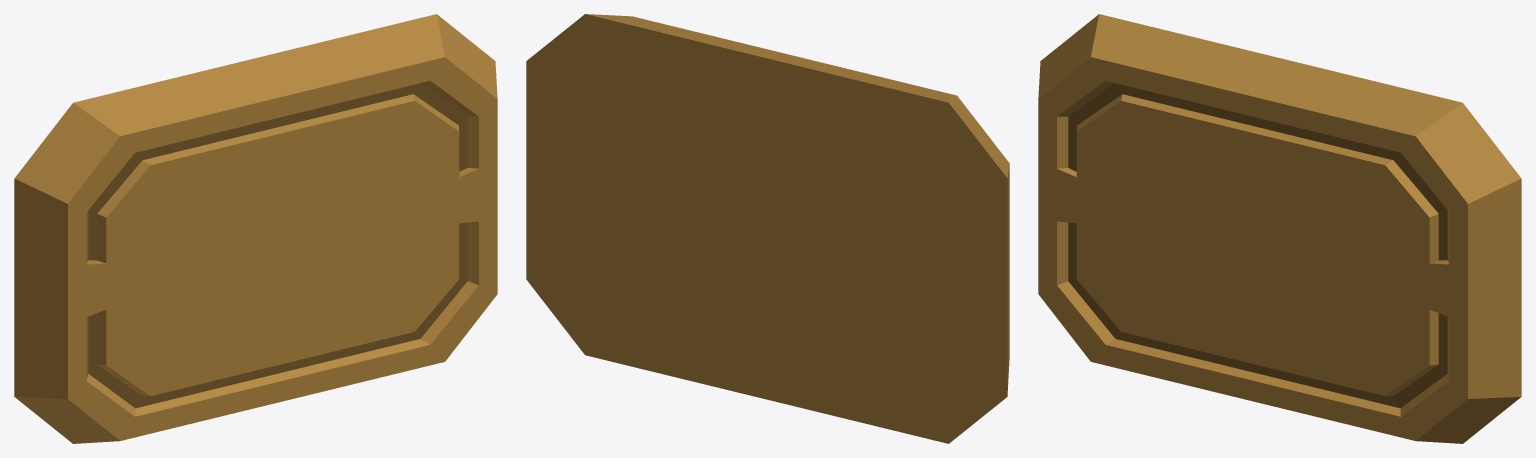
The model's file is Details_Basic_4.glb.
The picture shows the model from 3 angles, left to right: view 1: azimuth 30°, elevation 25°; view 2: azimuth 150°, elevation 25°; view 3: azimuth 330°, elevation 25°; orthographic projection.
Visible parts, largest first — view 1: Details_Basic_4; view 2: Details_Basic_4; view 3: Details_Basic_4.
Boxes of the visible parts, x1,y1,x2,y2 form: Details_Basic_4: (14, 14, 497, 443); Details_Basic_4: (526, 14, 1009, 443); Details_Basic_4: (1038, 14, 1521, 443).
Bounding box in the file's own units: 0.231 × 0.1566 × 0.0231.
